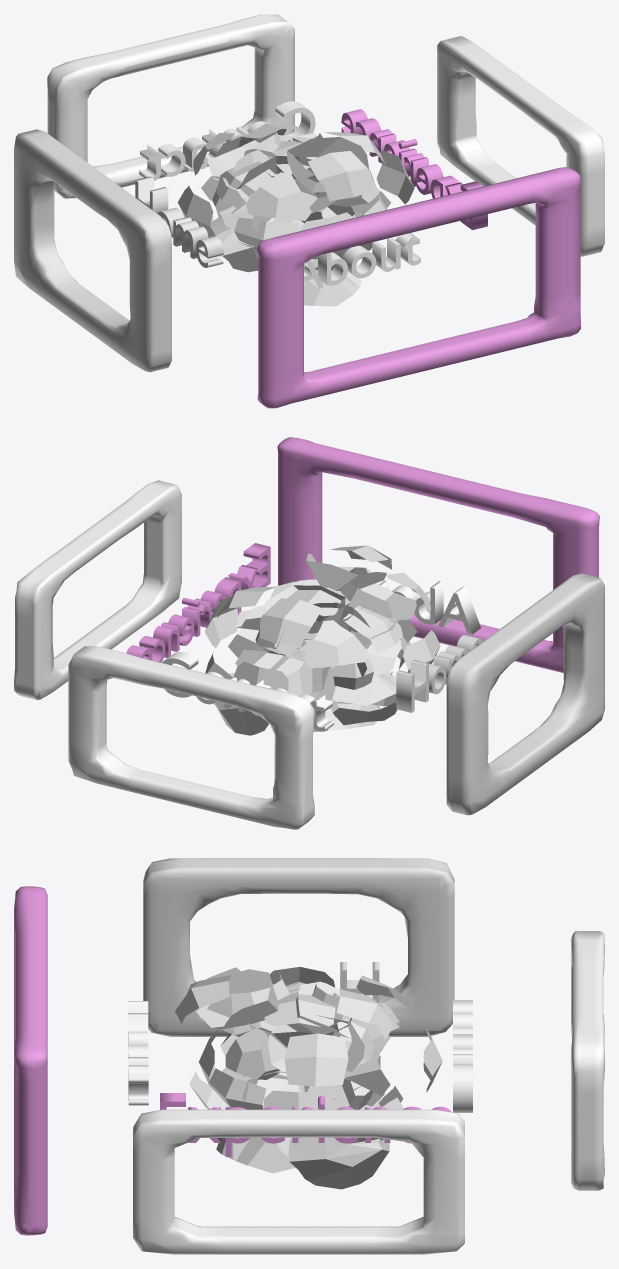
File: menuScene-CwYdaXJA.glb
3 renders of one model, top to bottom at view 1: azimuth 30°, elevation 25°; view 2: azimuth 150°, elevation 25°; view 3: azimuth 270°, elevation 25°, orthographic. The views are drawn at different scales.
Visible parts, largest first — view 1: Portal_About, Portal_Home, Portal_Contact, Portal_Exp, Cube_cell.014, Text_Exp, Cube_cell.006, Text_About, Text.Contact, Text._Home, Cube_cell.022, Cube_cell.004 (+9 smaller); view 2: Portal_Home, Portal_Contact, Portal_About, Portal_Exp, Text_Exp, Cube_cell.018, Cube_cell.004, Cube_cell.025, Cube_cell.005, Text._Home, Cube_cell.006, Text_About (+10 smaller); view 3: Portal_Exp, Portal_Home, Portal_About, Portal_Contact, Cube_cell.015, Cube_cell.007, Cube_cell.014, Cube_cell.024, Text.Contact, Text_About, Cube_cell.020, Cube_cell.018 (+12 smaller).
Part boxes in pixels (x1=…): Portal_About: x1=257, y1=167, x2=580, y2=408; Portal_Home: x1=14, y1=129, x2=171, y2=372; Portal_Contact: x1=47, y1=14, x2=294, y2=198; Portal_Exp: x1=437, y1=36, x2=604, y2=256; Cube_cell.014: x1=287, y1=137, x2=372, y2=201; Text_Exp: x1=341, y1=109, x2=487, y2=230; Cube_cell.006: x1=236, y1=156, x2=336, y2=220; Text_About: x1=304, y1=233, x2=420, y2=288; Text.Contact: x1=139, y1=101, x2=315, y2=180; Text._Home: x1=135, y1=176, x2=223, y2=267; Cube_cell.022: x1=177, y1=176, x2=271, y2=237; Cube_cell.004: x1=193, y1=131, x2=282, y2=180; Portal_Home: x1=446, y1=573, x2=604, y2=815; Portal_Contact: x1=68, y1=646, x2=314, y2=829; Portal_About: x1=277, y1=437, x2=599, y2=672; Portal_Exp: x1=14, y1=480, x2=181, y2=700; Text_Exp: x1=126, y1=543, x2=270, y2=662; Cube_cell.018: x1=259, y1=585, x2=345, y2=647; Cube_cell.004: x1=276, y1=602, x2=371, y2=668; Cube_cell.025: x1=233, y1=647, x2=329, y2=693; Cube_cell.005: x1=308, y1=666, x2=397, y2=725; Text._Home: x1=396, y1=635, x2=482, y2=712; Cube_cell.006: x1=340, y1=567, x2=430, y2=622; Text_About: x1=379, y1=580, x2=480, y2=634; Portal_Exp: x1=133, y1=1109, x2=464, y2=1254; Portal_Home: x1=143, y1=858, x2=454, y2=1036; Portal_About: x1=14, y1=886, x2=47, y2=1235; Portal_Contact: x1=571, y1=931, x2=604, y2=1190; Cube_cell.015: x1=268, y1=1015, x2=364, y2=1086; Cube_cell.007: x1=277, y1=1137, x2=389, y2=1189; Cube_cell.014: x1=175, y1=969, x2=278, y2=1029; Cube_cell.024: x1=242, y1=1070, x2=355, y2=1109; Text.Contact: x1=453, y1=1000, x2=472, y2=1112; Text_About: x1=128, y1=1001, x2=148, y2=1105; Cube_cell.020: x1=242, y1=983, x2=351, y2=1048; Cube_cell.018: x1=296, y1=981, x2=393, y2=1039.
Size of the model in its own units: 8.79 by 3.1 by 8.81.
